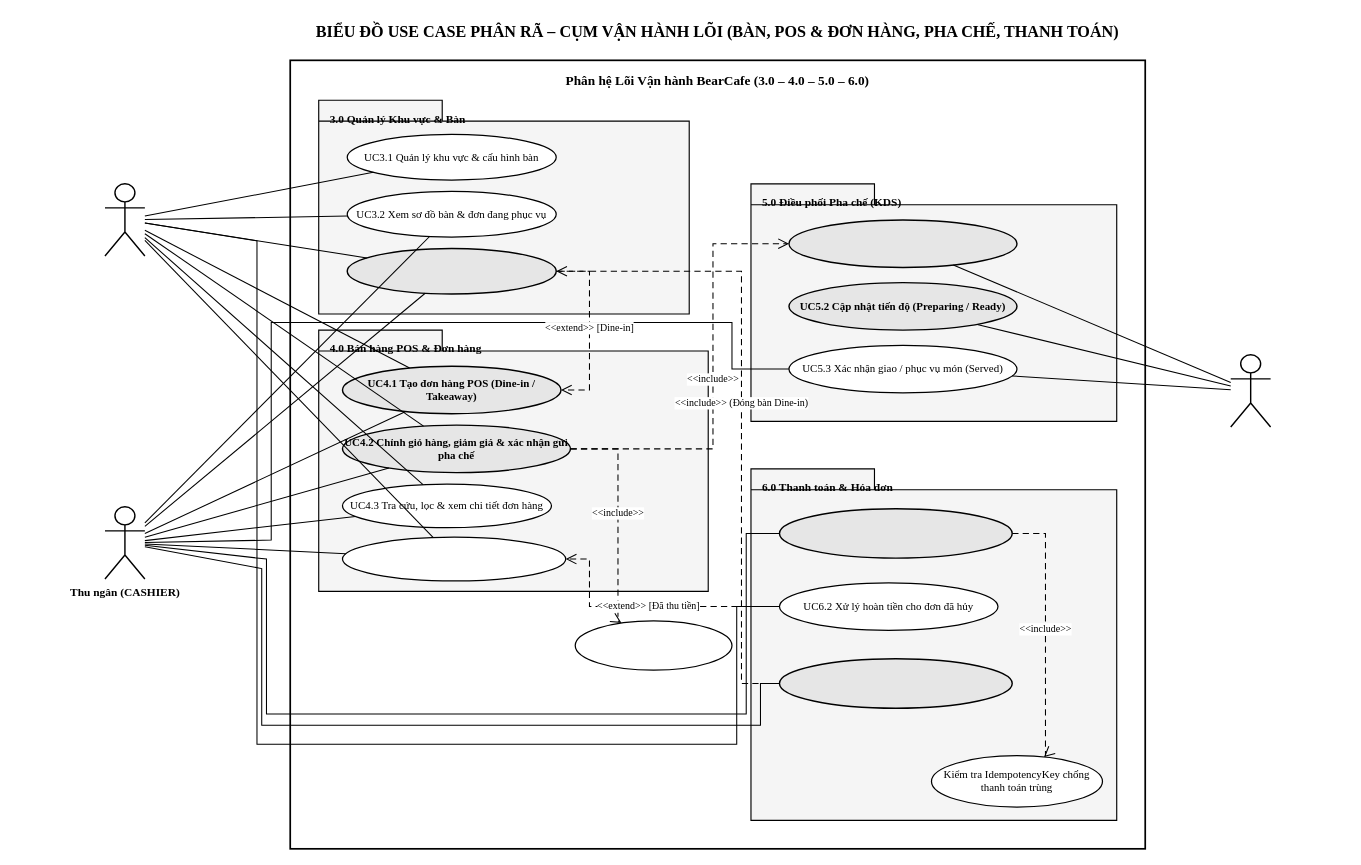
Some shapes in this 1361 by 865 pixel diagram are drawn without their labels. Each missing label, with the centre of its shape:
Backend tính tiền & lưu Snapshot giá: [653,645]
Chủ quán (ADMIN) / Quản lý (MANAGER): [124,219]
Nhân viên pha chế (BARISTA): [1250,390]
UC3.3 Mở, chuyển bàn & đóng phiên bàn: [451,270]
UC4.4 Hủy đơn hàng có lý do & ghi lịch sử trạng thái: [453,558]
UC5.1 Tiếp nhận đơn pha chế realtime (SignalR): [902,243]
UC6.1 Ghi nhận thanh toán (Tiền mặt / Chuyển khoản): [895,533]
UC6.3 Xem, in/xuất hóa đơn & hoàn tất đơn hàng: [895,683]
